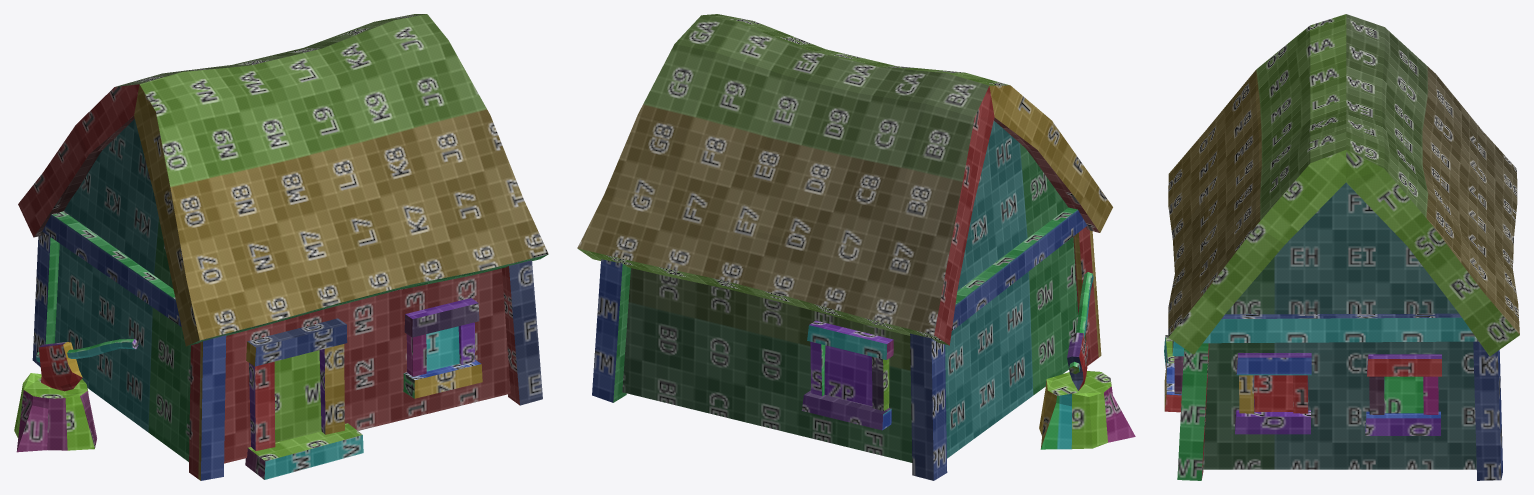
Rendered from lumberjack.fbx.
3 views of the same model, side by side, from view 1: azimuth 30°, elevation 25°; view 2: azimuth 150°, elevation 25°; view 3: azimuth 270°, elevation 25° (orthographic). The views are drawn at different scales.
Parts seen in each view (by area): view 1: lumberjack; view 2: lumberjack; view 3: lumberjack.
Boxes of the visible parts, left/top/right/bottom form: lumberjack: left=14, top=14, right=548, bottom=480; lumberjack: left=577, top=14, right=1135, bottom=480; lumberjack: left=1164, top=14, right=1519, bottom=480.
Size of the model in its own units: 948 by 667 by 662.
